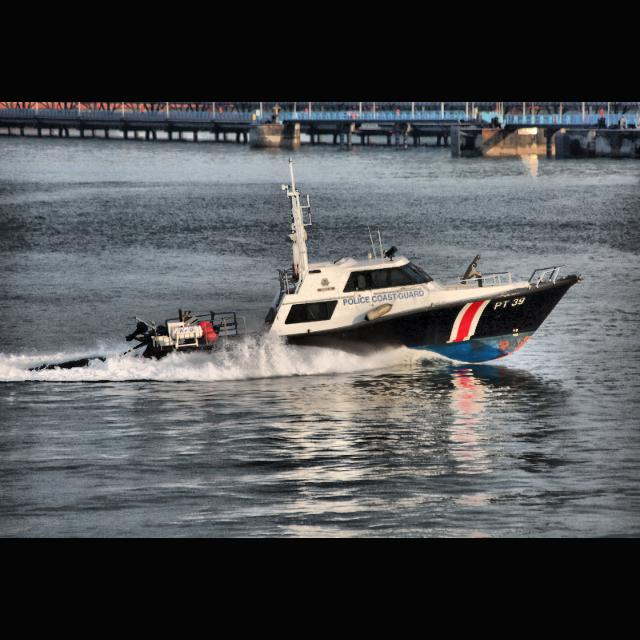patrol_vessel: (122, 180, 584, 380)
